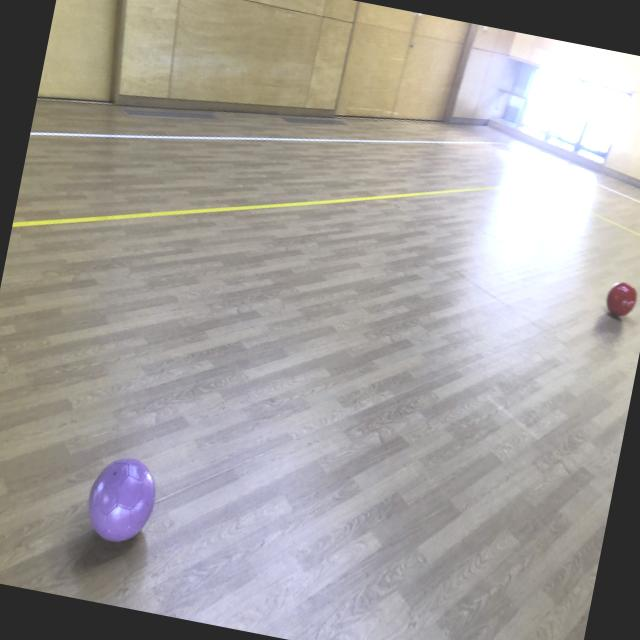purple_ball: (84, 450, 162, 548)
red_ball: (605, 278, 640, 323)
